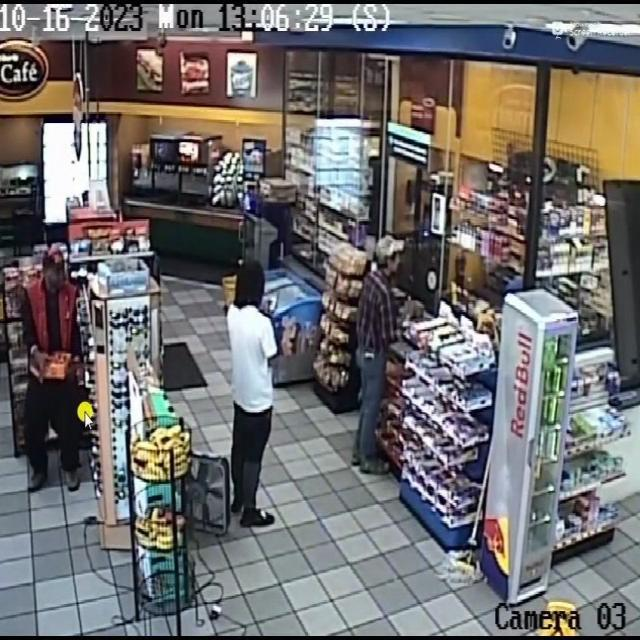Shoplifting: (16, 244, 91, 488)
normal: (221, 253, 287, 535), (349, 231, 404, 475)
